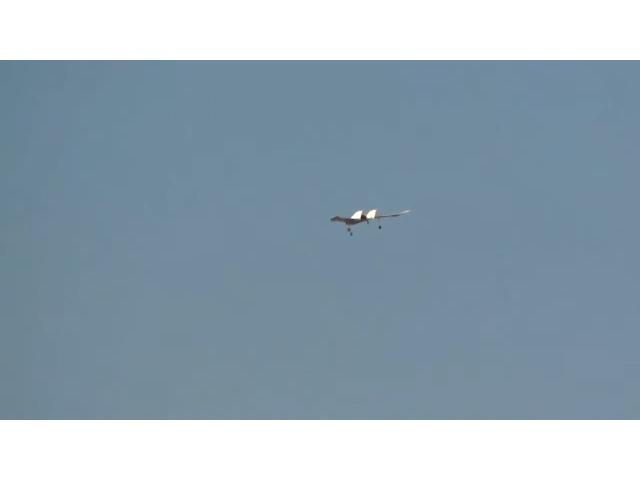Anti-Drone: (332, 210, 414, 226)
